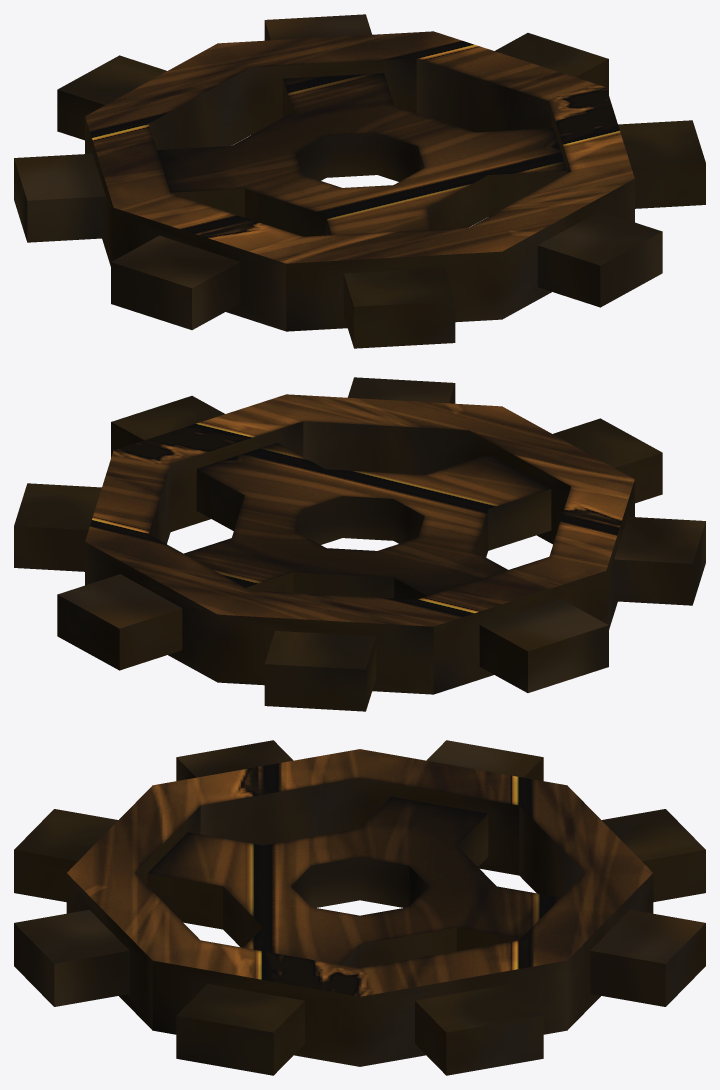
Rendered from MESH_AMB08_Gear.fbx.
The picture shows the model from 3 angles, top to bottom: view 1: azimuth 30°, elevation 25°; view 2: azimuth 150°, elevation 25°; view 3: azimuth 270°, elevation 25°; orthographic projection. The views are drawn at different scales.
Parts seen in each view (by area): view 1: polySurface131; view 2: polySurface131; view 3: polySurface131.
Boxes of the visible parts, bbox=[...] form: polySurface131: bbox=[14, 14, 705, 348]; polySurface131: bbox=[14, 377, 705, 711]; polySurface131: bbox=[14, 740, 705, 1075].
Size of the model in its own units: 2.36 by 0.2635 by 2.36.
